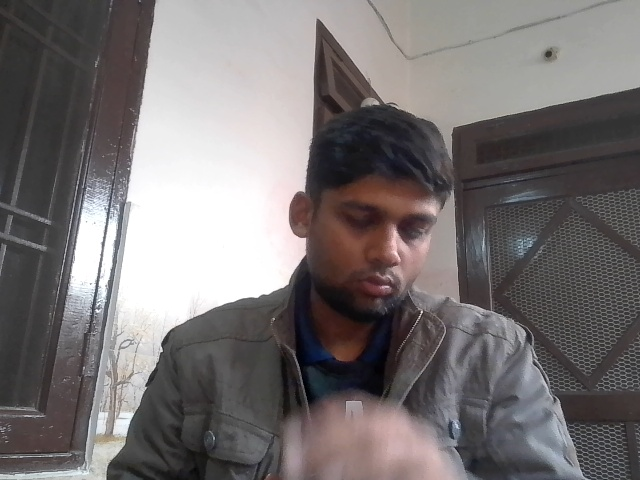Hello: (218, 314, 491, 480)
